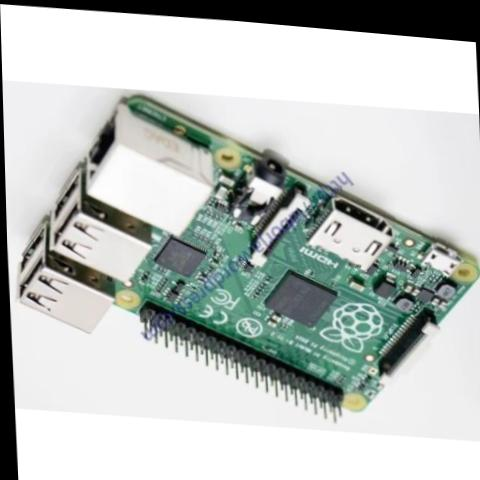Raspberry-Pi-1-Model-B-: (2, 72, 480, 440)
